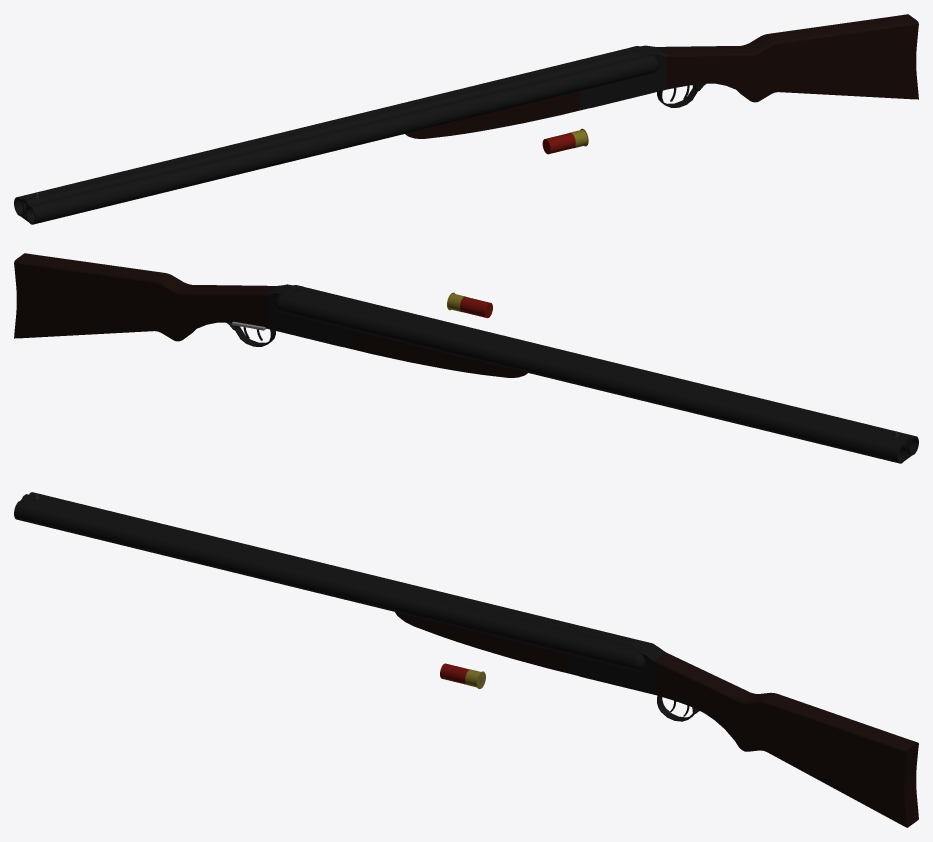
File: Shotgun.obj
3 renders of one model, top to bottom at view 1: azimuth 30°, elevation 25°; view 2: azimuth 150°, elevation 25°; view 3: azimuth 330°, elevation 25°, orthographic.
Visible parts, largest first — view 1: pCube5_Mesh.004, pCylinder1_Mesh.012, pCube1_Mesh, pCube3_Mesh.002, pCylinder2_Mesh.013, pCube2_Mesh.001, pCylinder3_Mesh.014, pCube10_Mesh.009; view 2: pCube5_Mesh.004, pCylinder2_Mesh.013, pCube1_Mesh, pCube3_Mesh.002, pCylinder1_Mesh.012, pCube2_Mesh.001, pCylinder3_Mesh.014, pCube10_Mesh.009; view 3: pCube5_Mesh.004, pCylinder1_Mesh.012, pCube1_Mesh, pCube3_Mesh.002, pCylinder2_Mesh.013, pCube2_Mesh.001, pCube10_Mesh.009.
Part boxes in pixels (x1=…): pCube5_Mesh.004: x1=656, y1=15, x2=912, y2=102; pCylinder1_Mesh.012: x1=26, y1=56, x2=648, y2=224; pCube1_Mesh: x1=19, y1=50, x2=641, y2=222; pCube3_Mesh.002: x1=405, y1=91, x2=579, y2=138; pCylinder2_Mesh.013: x1=14, y1=47, x2=633, y2=216; pCube2_Mesh.001: x1=582, y1=45, x2=666, y2=108; pCylinder3_Mesh.014: x1=542, y1=133, x2=575, y2=154; pCube10_Mesh.009: x1=902, y1=14, x2=918, y2=99; pCube5_Mesh.004: x1=20, y1=254, x2=276, y2=341; pCylinder2_Mesh.013: x1=284, y1=295, x2=906, y2=463; pCube1_Mesh: x1=291, y1=289, x2=912, y2=461; pCube3_Mesh.002: x1=353, y1=330, x2=527, y2=377; pCylinder1_Mesh.012: x1=299, y1=286, x2=918, y2=455; pCube2_Mesh.001: x1=266, y1=284, x2=342, y2=346; pCylinder3_Mesh.014: x1=460, y1=296, x2=492, y2=318; pCube10_Mesh.009: x1=14, y1=253, x2=30, y2=338; pCube5_Mesh.004: x1=655, y1=652, x2=910, y2=823; pCylinder1_Mesh.012: x1=14, y1=500, x2=633, y2=668; pCube1_Mesh: x1=21, y1=494, x2=641, y2=649; pCube3_Mesh.002: x1=395, y1=612, x2=567, y2=673; pCylinder2_Mesh.013: x1=29, y1=492, x2=644, y2=643; pCube2_Mesh.001: x1=570, y1=641, x2=665, y2=694; pCube10_Mesh.009: x1=900, y1=740, x2=918, y2=827.
Size of the model in its own units: 26.4 by 3.32 by 3.43.
